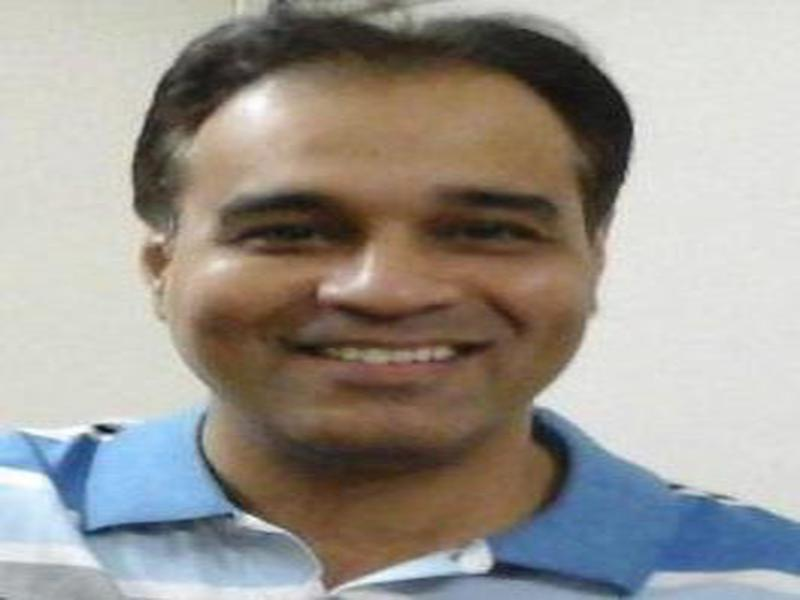without_mask: (187, 114, 585, 463)
